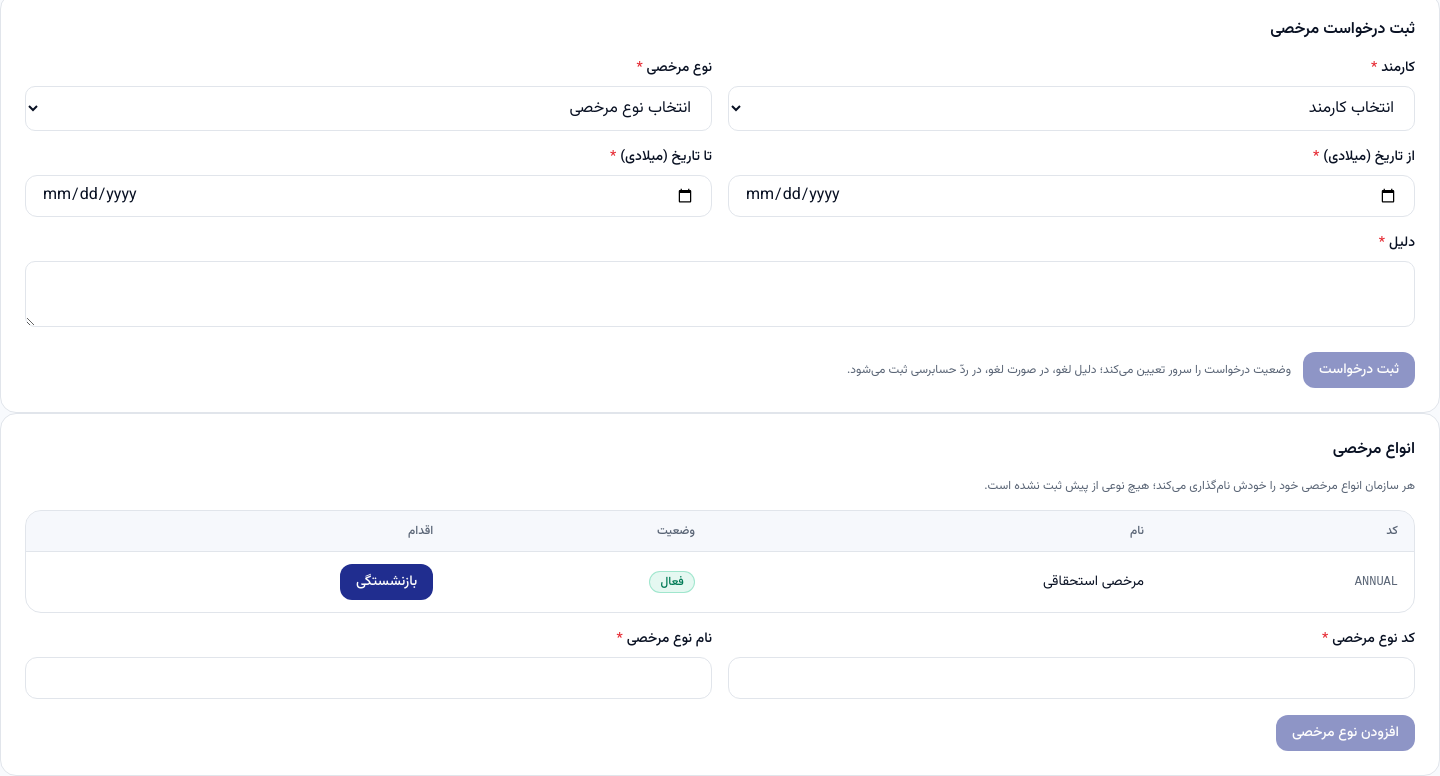
Test: HrLeaveView › adds a kind of leave to the tenant’s own catalogue, and only when both fields are stated
This screenshot has width=1440, height=776.
(page scrolled)
Check: the table with test id "hr-leave-type-table" is shown, box [26,511,1414,612]
Check: the button with test id "hr-leave-type-submit" is disabled, box [1276,715,1415,751]
Step 1. Type "SICK" into the field with id "hr-leave-type-code" → (1072, 678), box [728,657,1415,699]
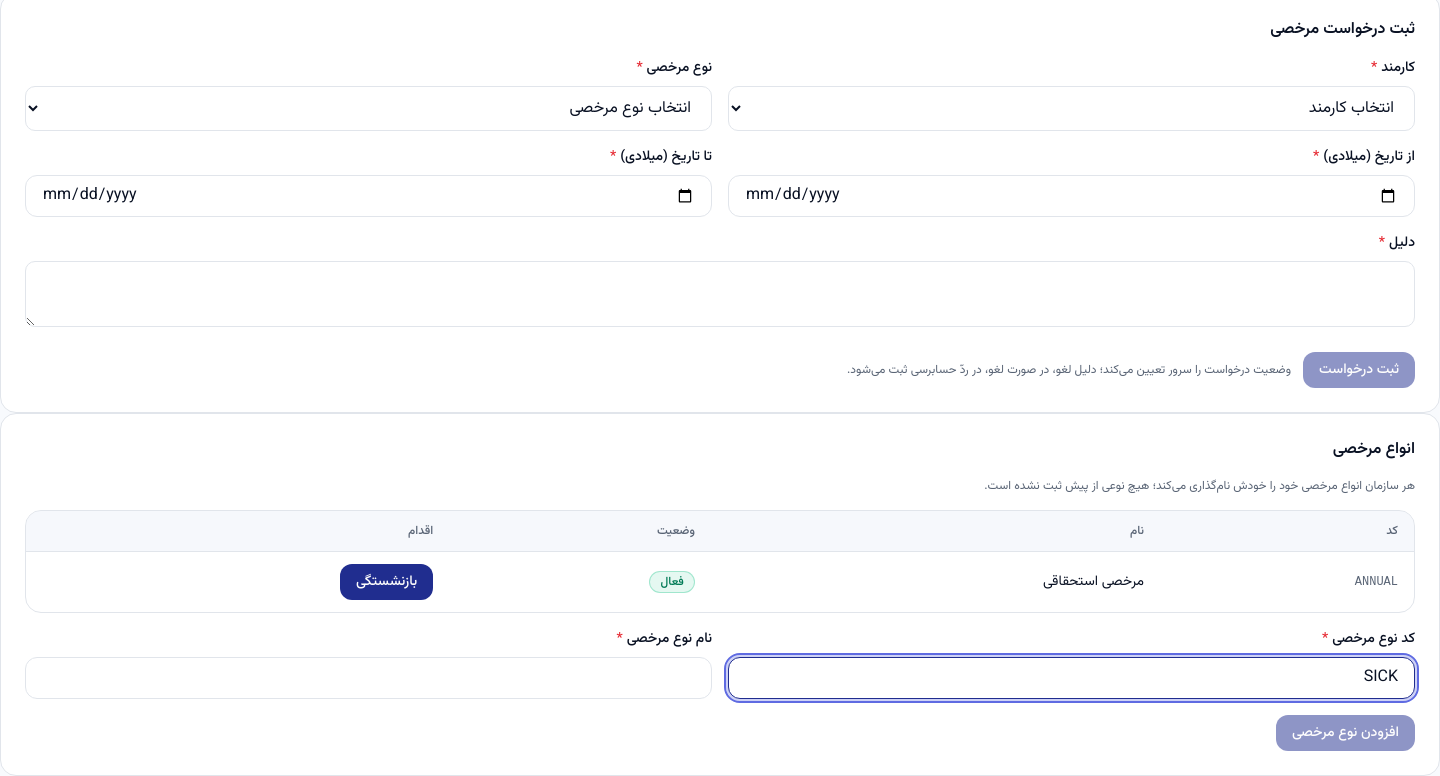
Check: the button with test id "hr-leave-type-submit" is disabled, box [1276,715,1415,751]
Step 2. Type "مرخصی استعلاجی" into the field with id "hr-leave-type-name" → (368, 678), box [25,657,712,699]
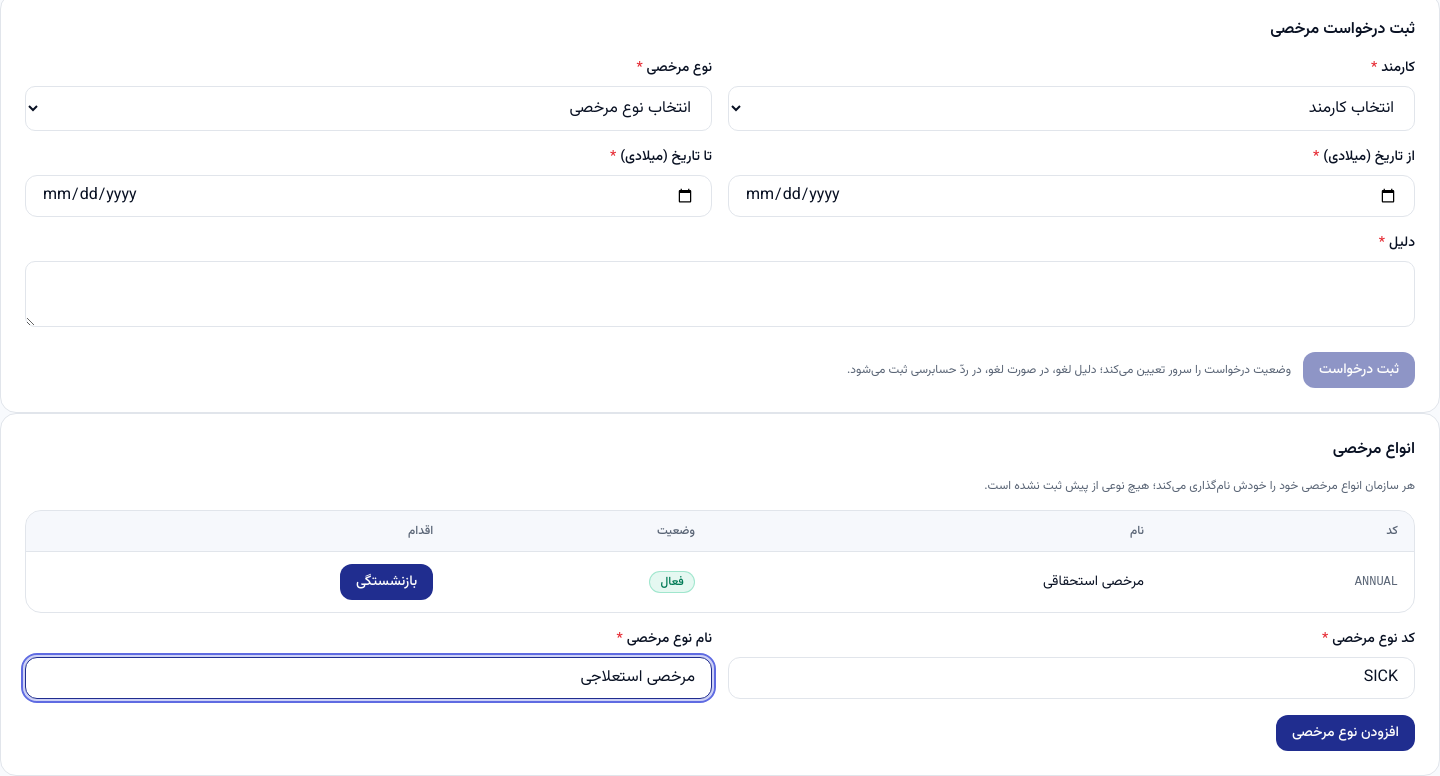
Check: the button with test id "hr-leave-type-submit" is enabled
Step 3. Click the button with test id "hr-leave-type-submit" → (1345, 733), box [1276,715,1415,751]
(page scrolled)
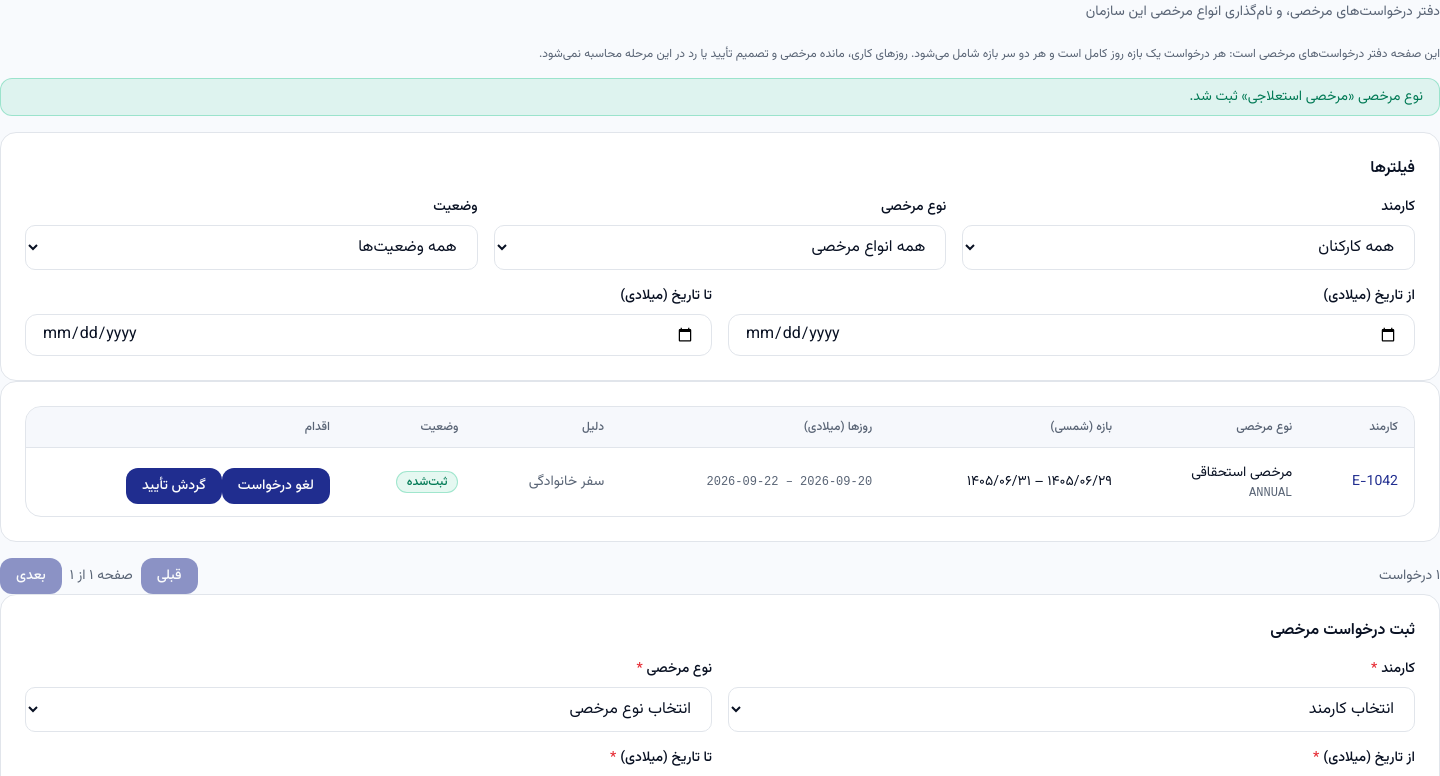
Check: the text "نوع مرخصی «مرخصی استعلاجی» ثبت شد." is shown, box [0,78,1439,116]
